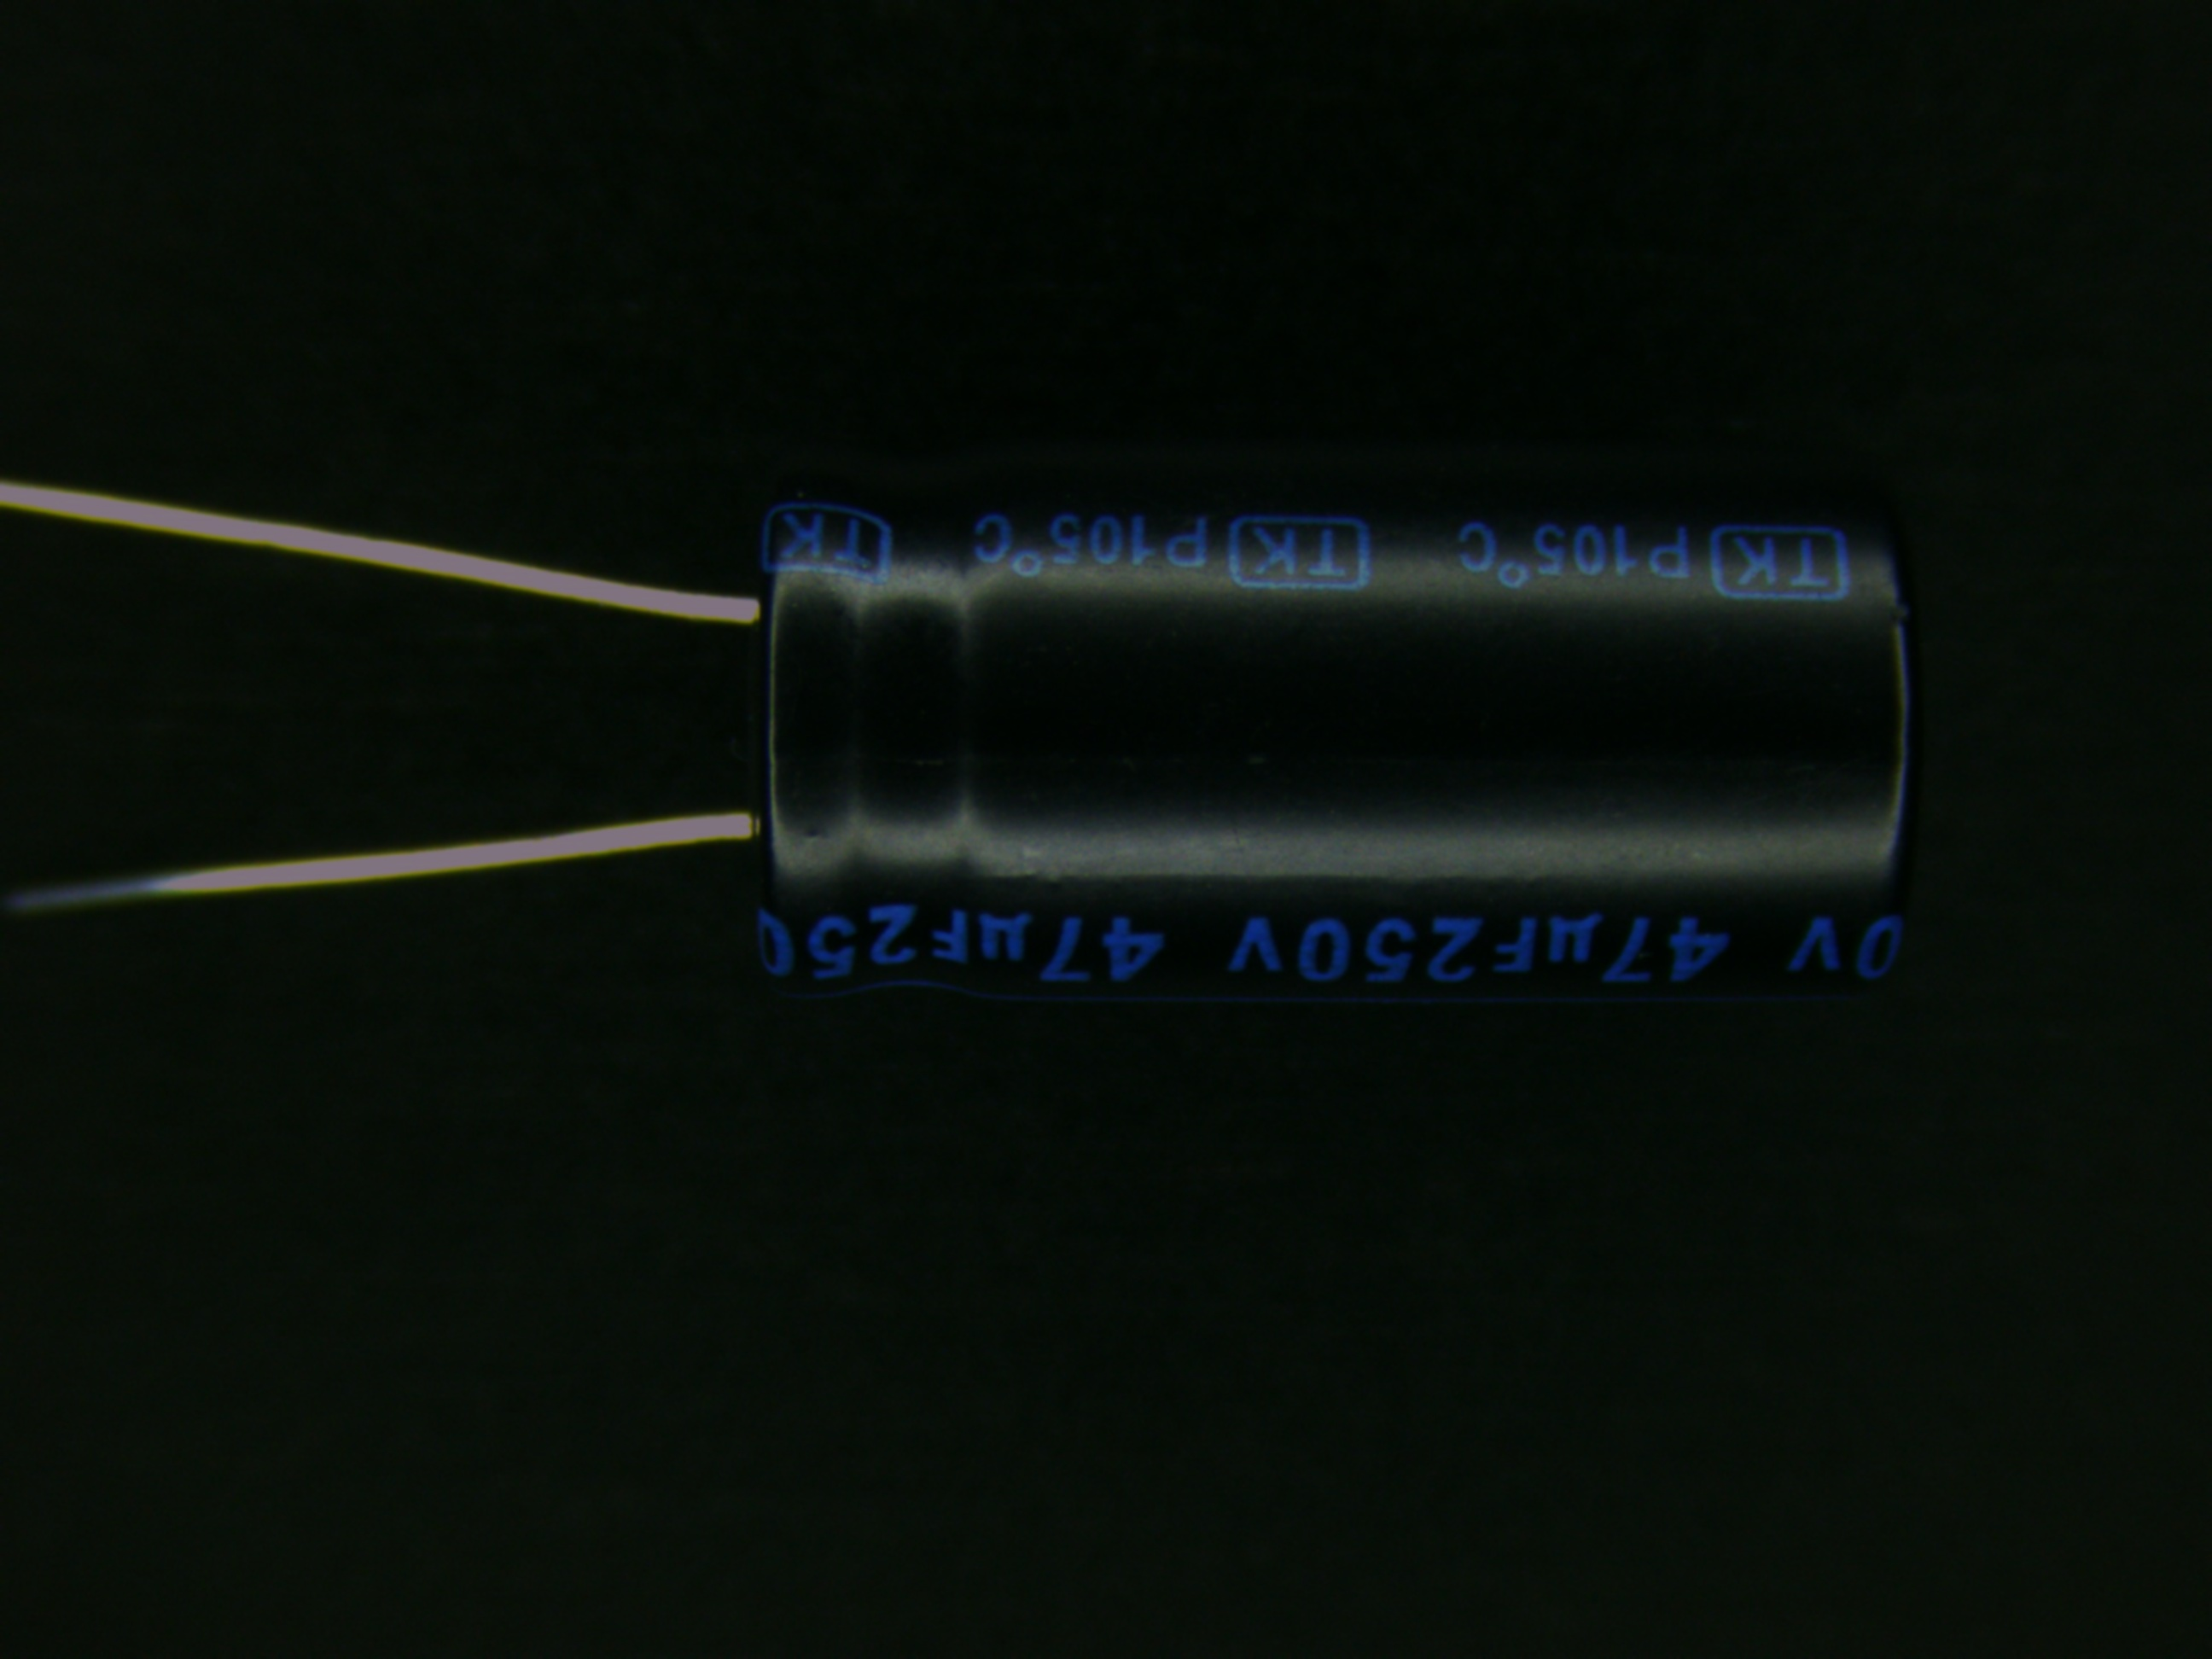c2: (582, 450, 1932, 1004)
